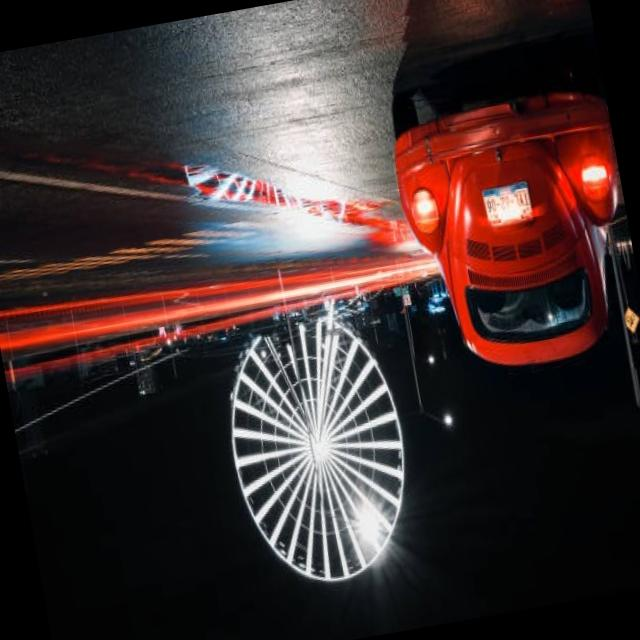car: (388, 56, 640, 385)
